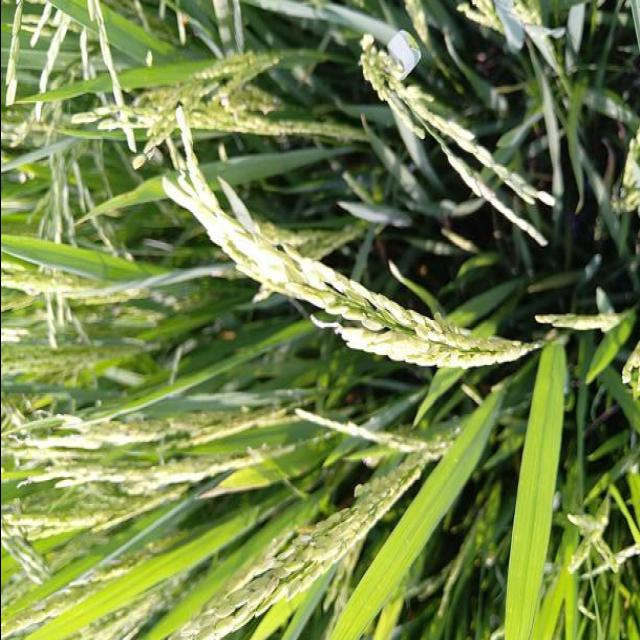Panicle Blight: (238, 564, 269, 585), (263, 578, 280, 596), (291, 525, 317, 535)
